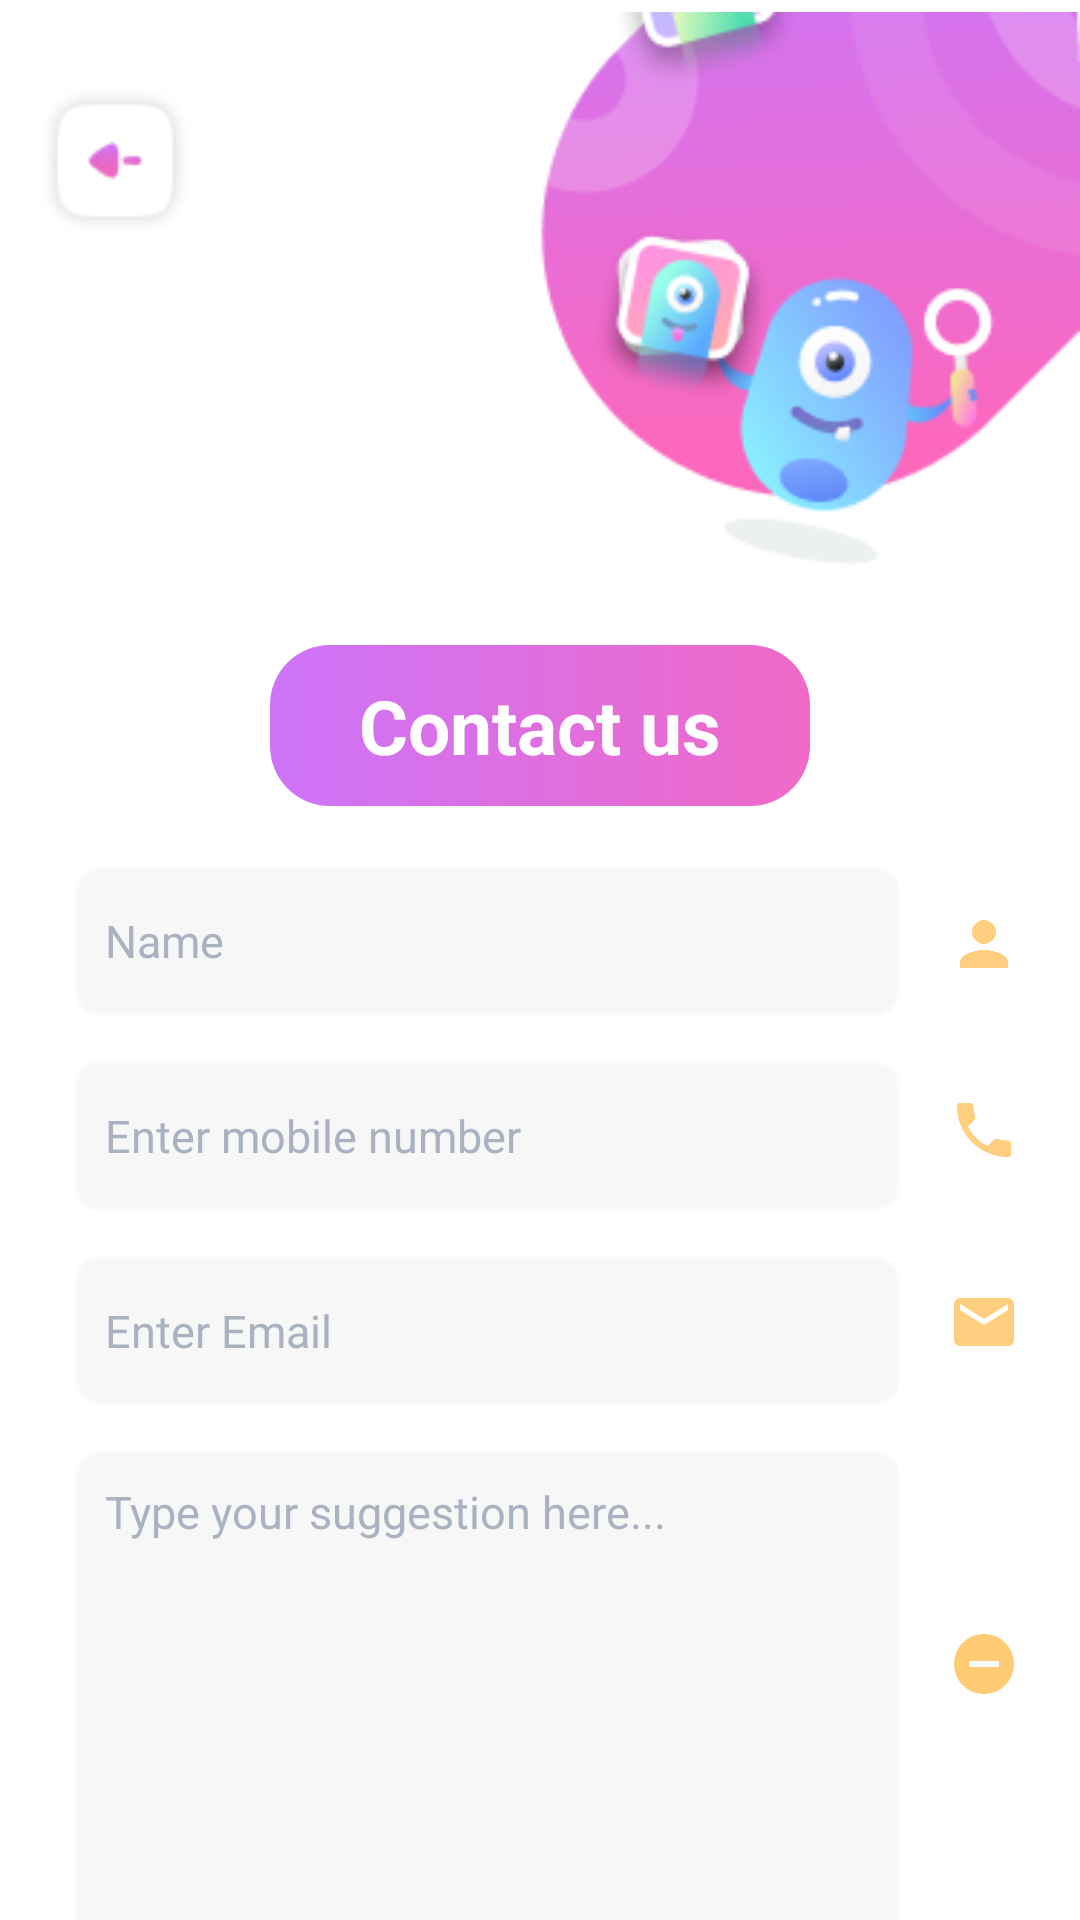

Named icons in this screenshot (1080px x 1920px) and their centers, [x,y]:
do not disturb: [984,1664]
message: [984,1322]
person: [984,944]
phone: [984,1130]
